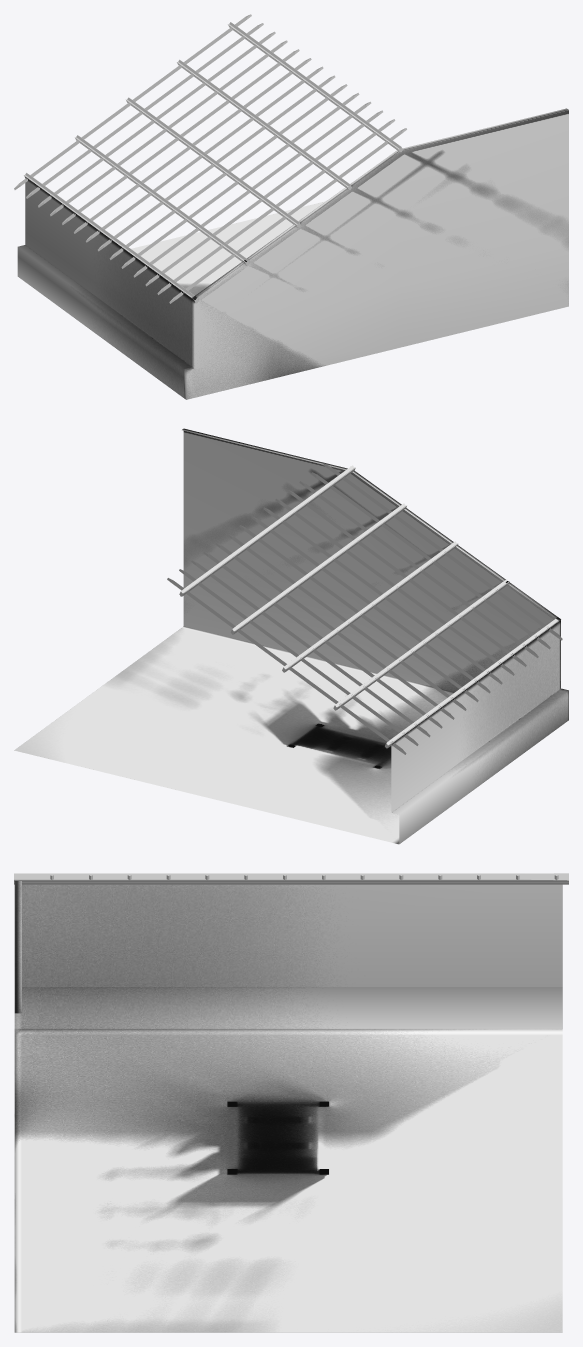
File: BakedScene.glb
3 renders of one model, top to bottom at view 1: azimuth 30°, elevation 25°; view 2: azimuth 150°, elevation 25°; view 3: azimuth 270°, elevation 25°, orthographic. The views are drawn at different scales.
Parts seen in each view (by area): view 1: Cube.027, Cube.026, Cube.025; view 2: Cube.027, Cube.026, Cube.025; view 3: Cube.027, Cube.025.
Part boxes in pixels (x1,y1,x2,y2): Cube.027: (17,108,568,399); Cube.026: (14,14,406,303); Cube.025: (24,22,402,303); Cube.027: (14,428,568,844); Cube.026: (167,463,562,754); Cube.025: (179,465,561,748); Cube.027: (14,881,562,1332); Cube.025: (14,873,568,884).
Size of the model in its own units: 40.22 by 20.52 by 30.66.
Materials: 2 (1 with a texture image).
